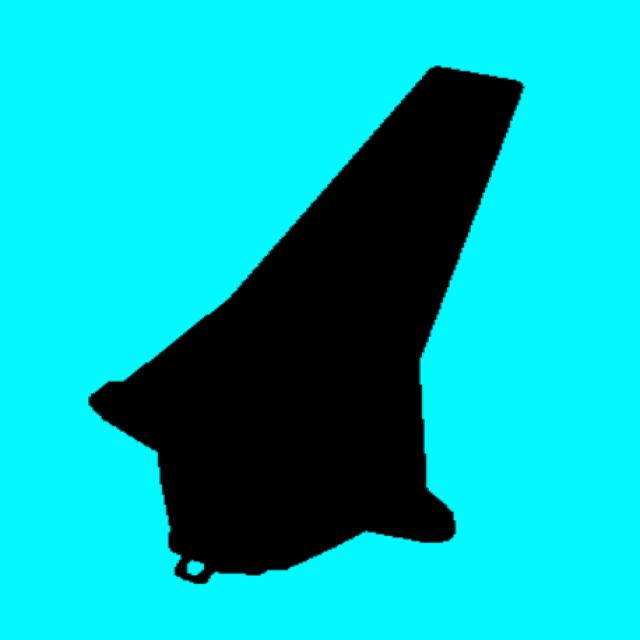BlackBuoy: (90, 68, 520, 582)
